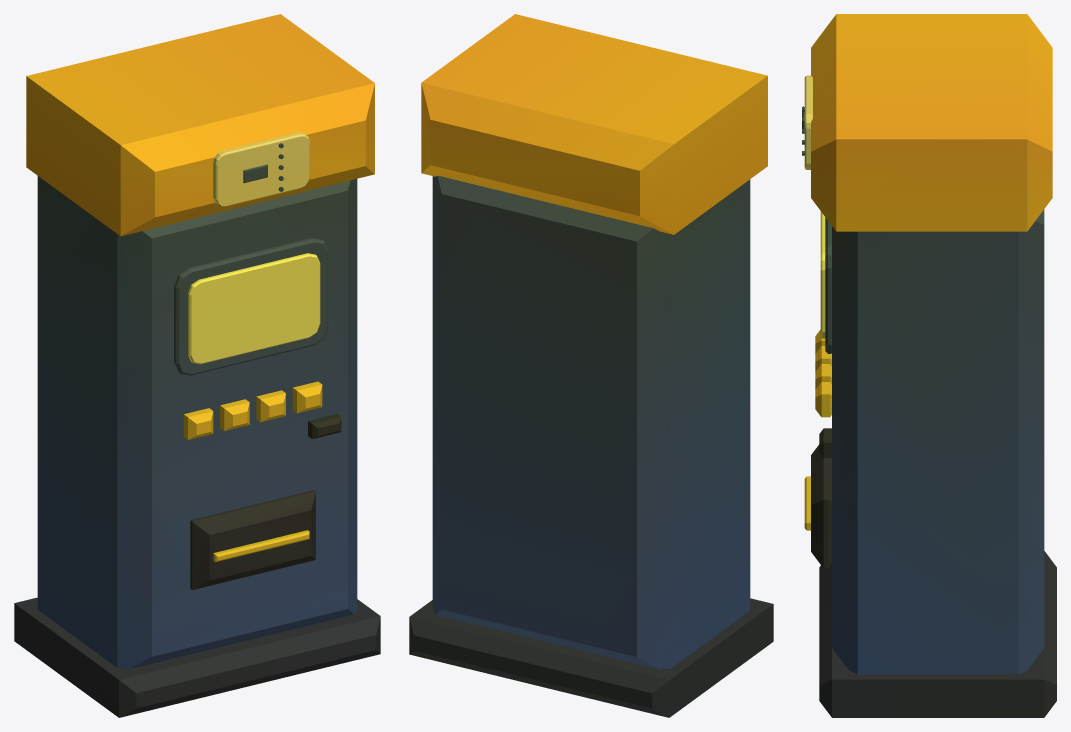
File: Prop_TicketMachine.glb
The picture shows the model from 3 angles, left to right: view 1: azimuth 30°, elevation 25°; view 2: azimuth 150°, elevation 25°; view 3: azimuth 270°, elevation 25°; orthographic projection.
Parts seen in each view (by area): view 1: Prop_TicketMachine; view 2: Prop_TicketMachine; view 3: Prop_TicketMachine.
Boxes of the visible parts, x1,y1,x2,y2 form: Prop_TicketMachine: (14,14,380,717); Prop_TicketMachine: (409,14,773,717); Prop_TicketMachine: (802,14,1056,717).
Bounding box in the file's own units: 0.72 × 1.5 × 0.601.
